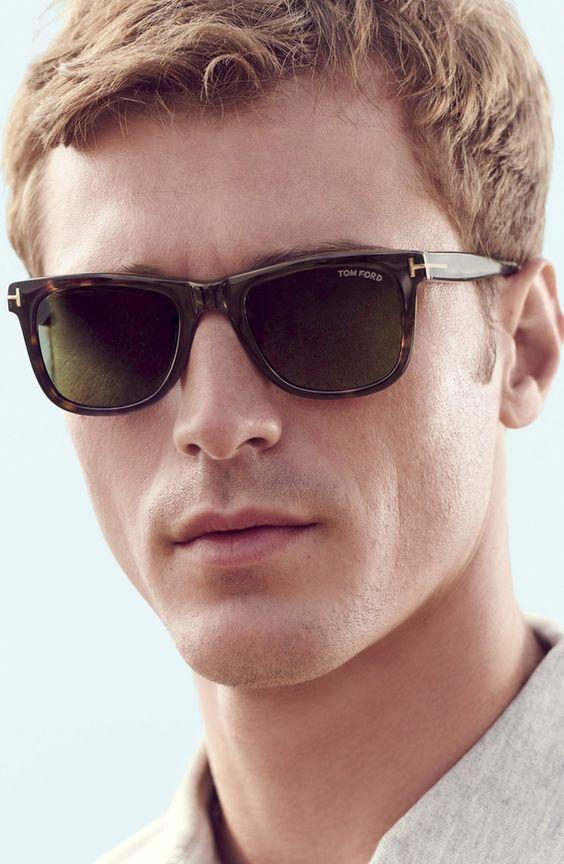sunglasses: (0, 233, 455, 423)
